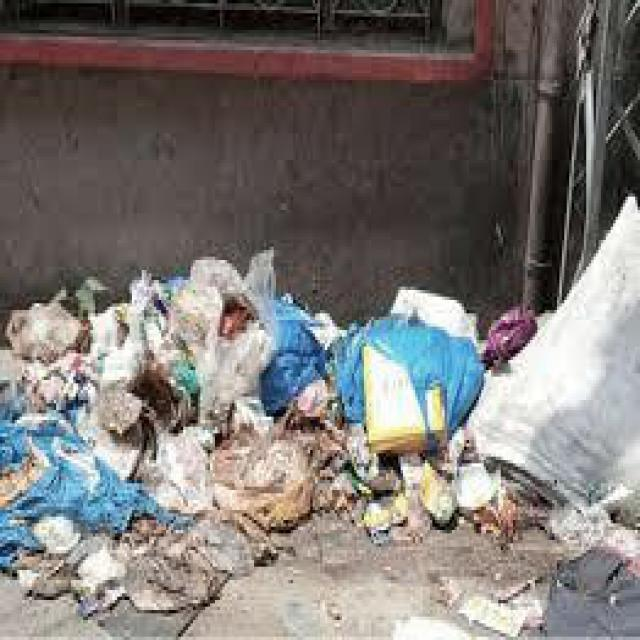garbage: (0, 243, 638, 620)
